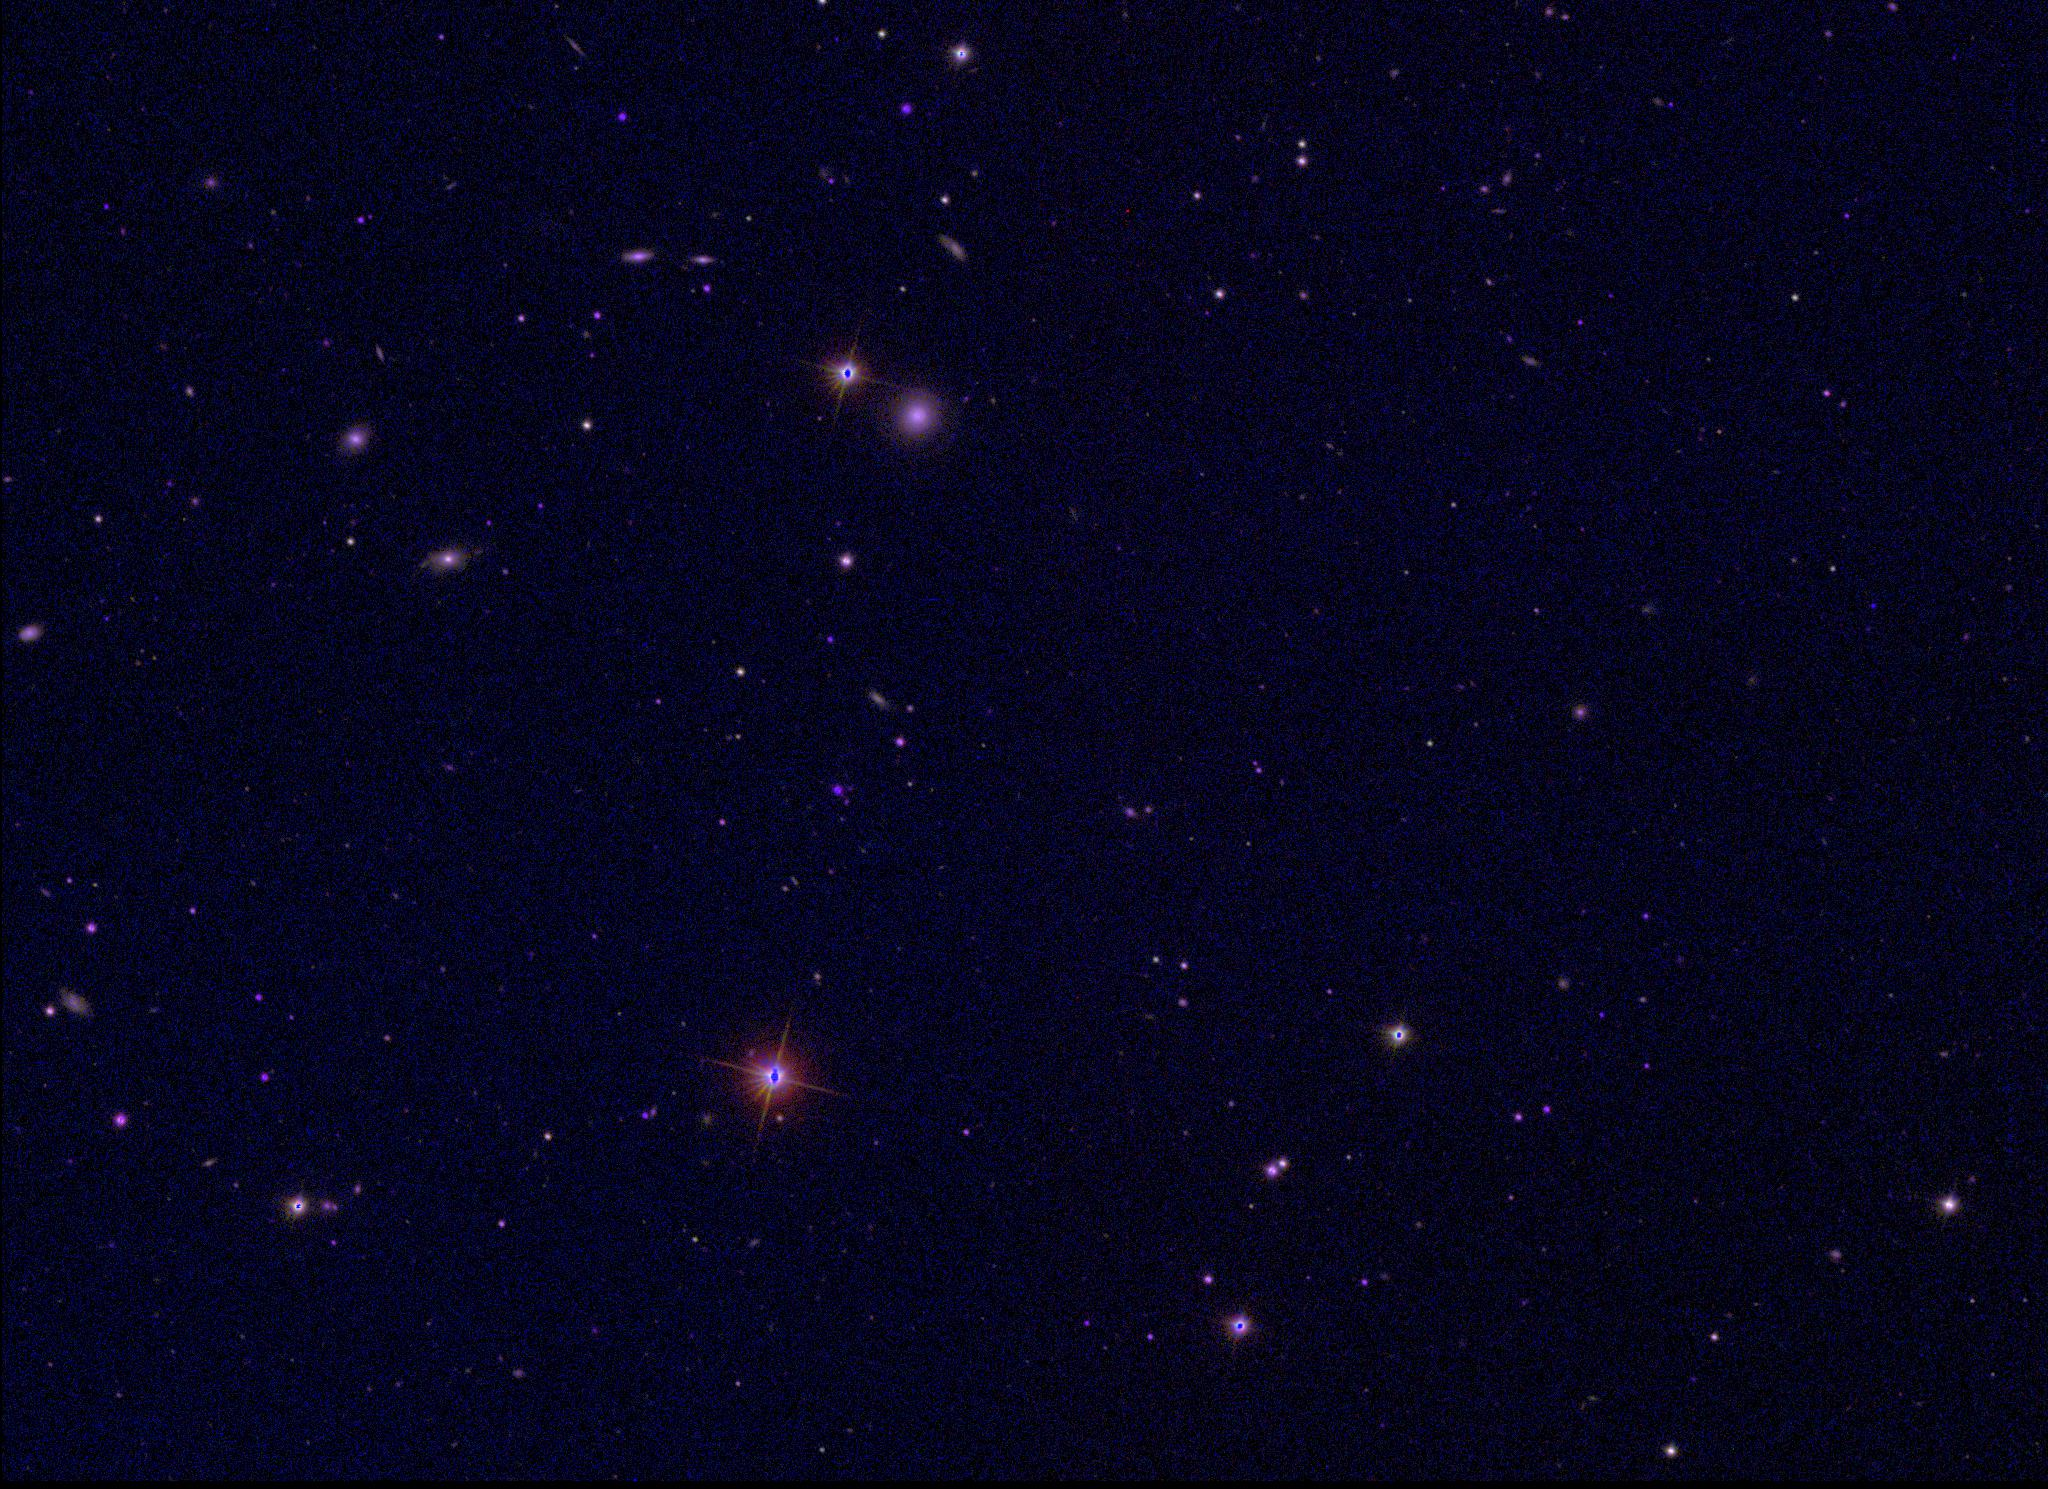L: (1867, 597, 1881, 611)
